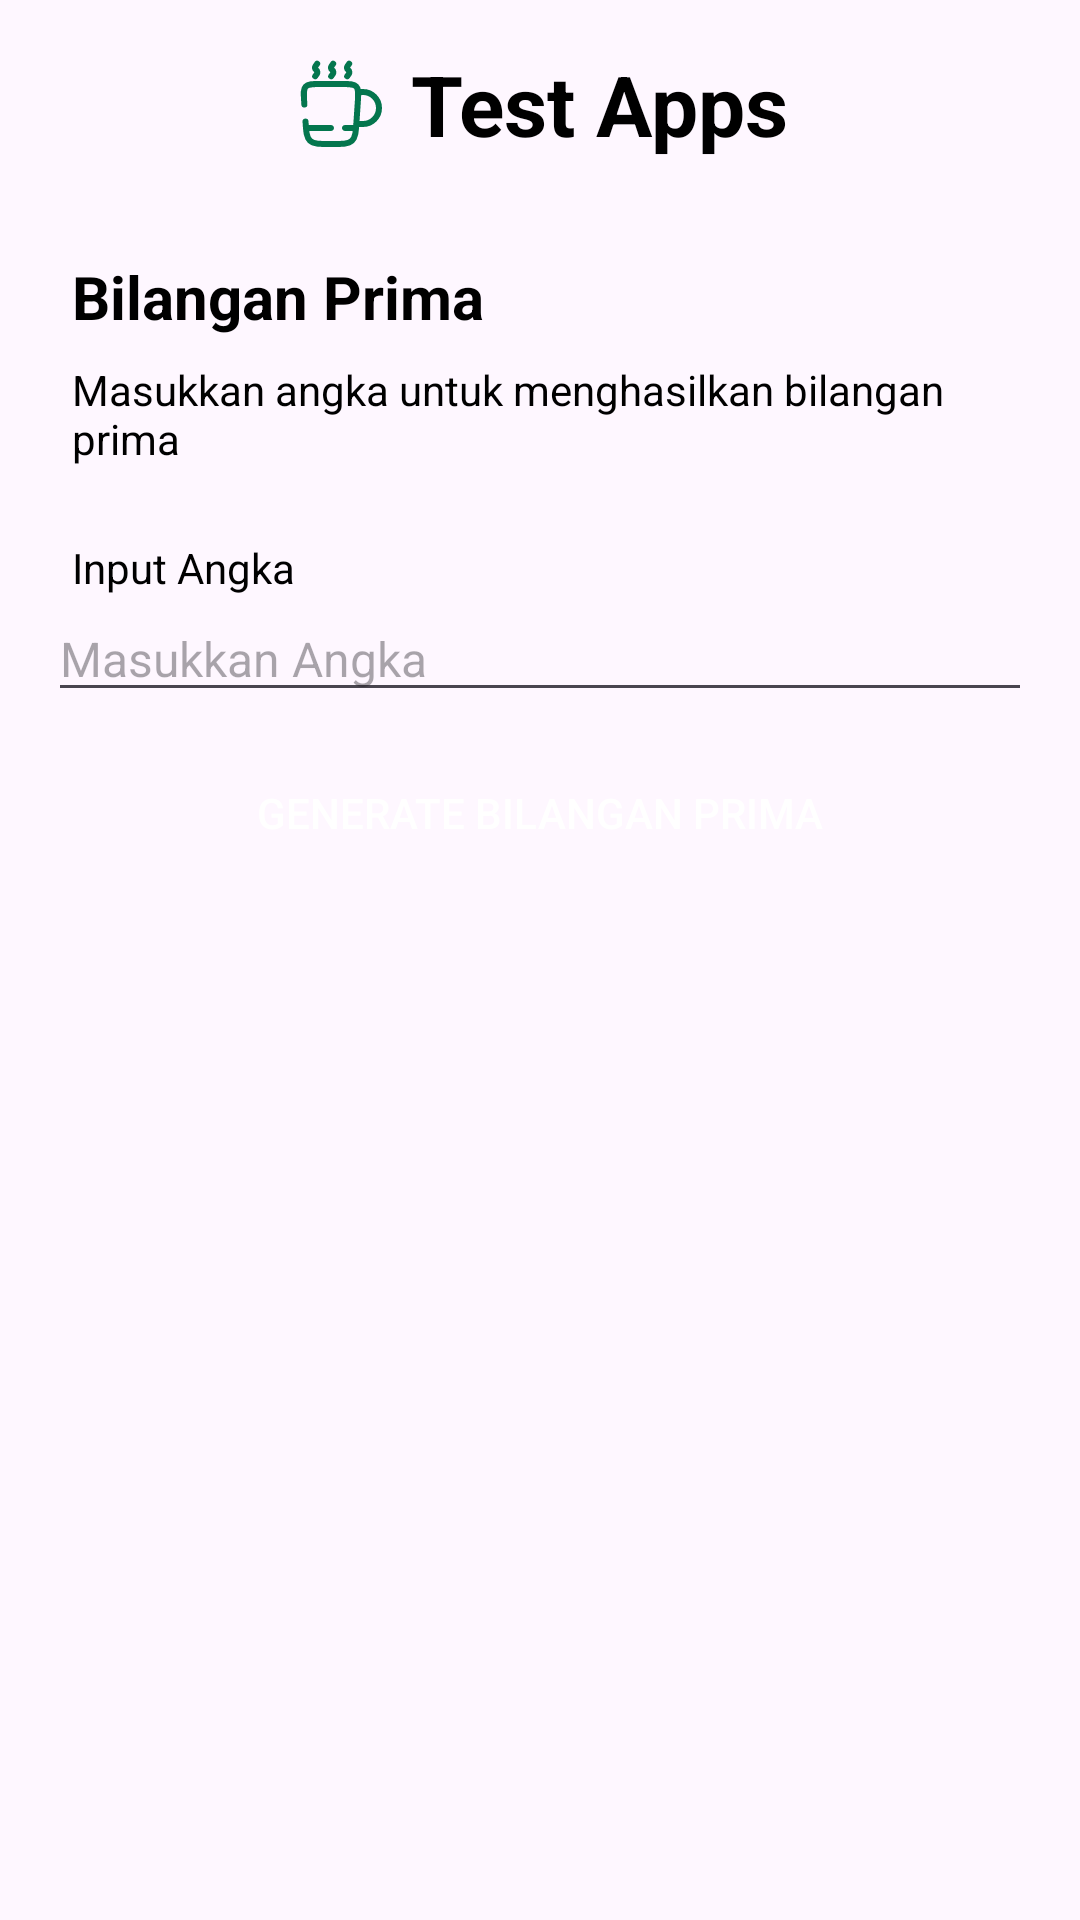

Named icons in this screenshot (1080 × 1920) and their centers, [x,y]:
cup: [341,103]
